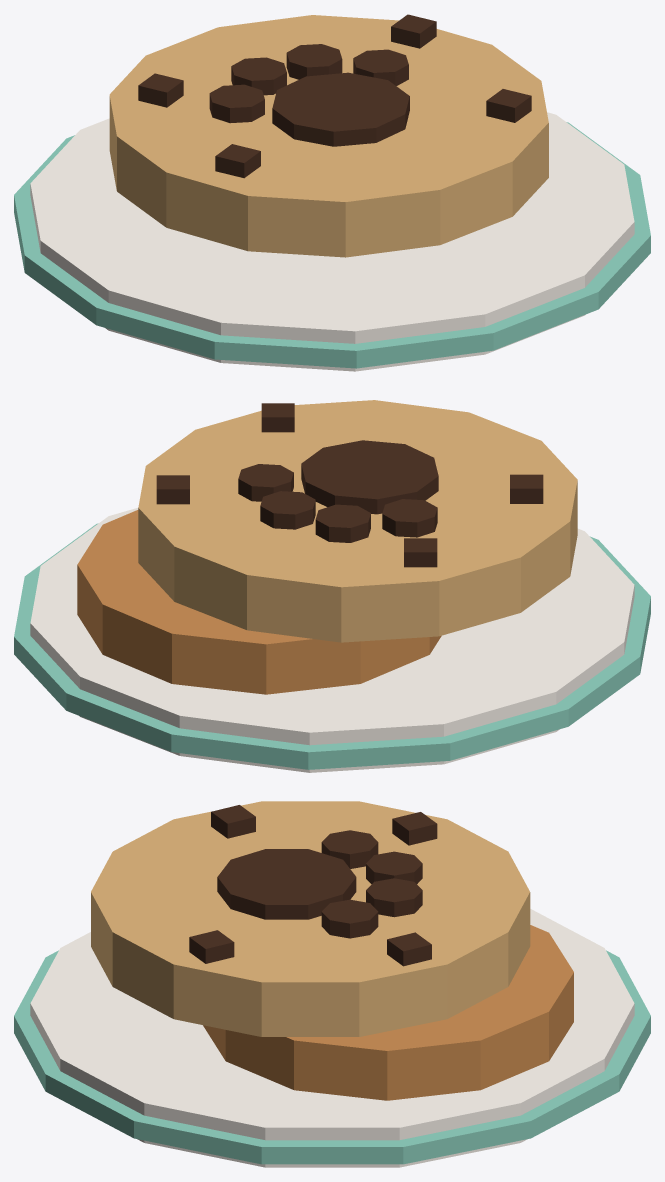
File: CatCafe_Menu_PawCookie.glb
3 renders of one model, top to bottom at view 1: azimuth 30°, elevation 25°; view 2: azimuth 150°, elevation 25°; view 3: azimuth 270°, elevation 25°, orthographic.
Parts seen in each view (by area): view 1: CatCafe_Menu_PawCookie, CatCafe_Menu_PawCookie_Plate; view 2: CatCafe_Menu_PawCookie, CatCafe_Menu_PawCookie_Plate; view 3: CatCafe_Menu_PawCookie, CatCafe_Menu_PawCookie_Plate.
Part boxes in pixels (<box>): CatCafe_Menu_PawCookie: <box>109,14,548,257</box>; CatCafe_Menu_PawCookie_Plate: <box>14,112,650,371</box>; CatCafe_Menu_PawCookie: <box>77,400,577,694</box>; CatCafe_Menu_PawCookie_Plate: <box>14,508,650,772</box>; CatCafe_Menu_PawCookie: <box>91,801,573,1100</box>; CatCafe_Menu_PawCookie_Plate: <box>14,909,650,1167</box>.
Size of the model in its own units: 1.13 by 0.36 by 1.16.
Materials: 1 (1 with a texture image).
